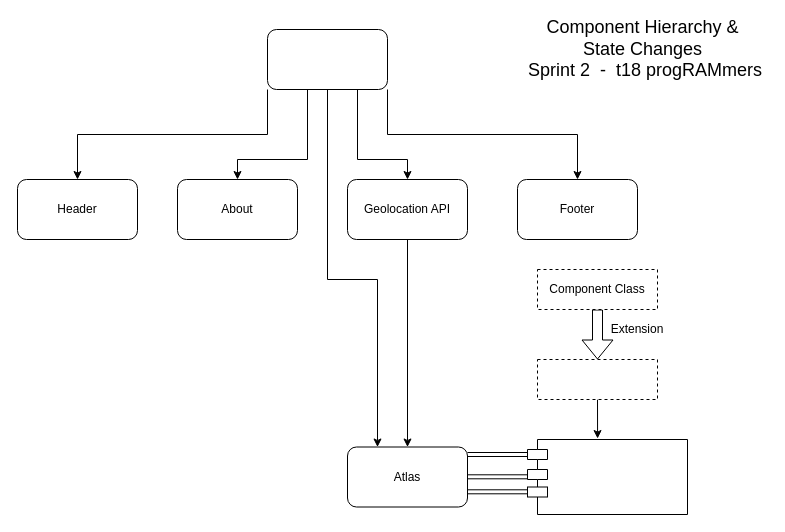
Some shapes in this 785 by 532 pixel diagram are drawn without their labels. Here are the shapes that lost their labels. From the top down, the centre of each, then its label:
the point at 327,59: App
the point at 597,379: Atlas Class
the point at 607,476: Marker position states: 0 - null 1 - clicked 2 - current location
